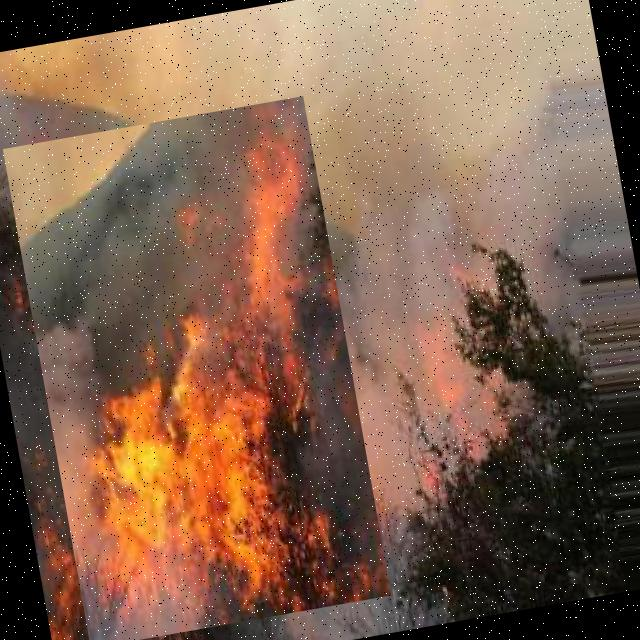fire: (2, 95, 390, 640)
